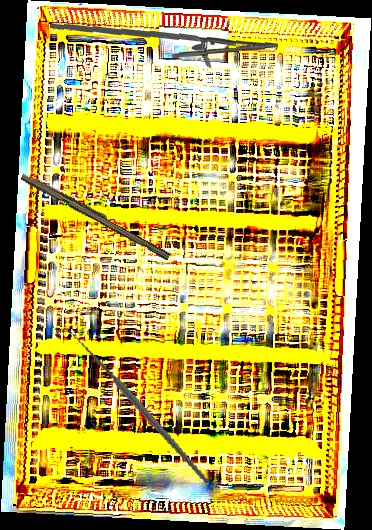Hook Surgical: (55, 306, 212, 508)
Needle Holder: (50, 14, 279, 75)
Scalpel Handle: (18, 170, 174, 261)
